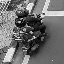mobil: (7, 3, 56, 57)
